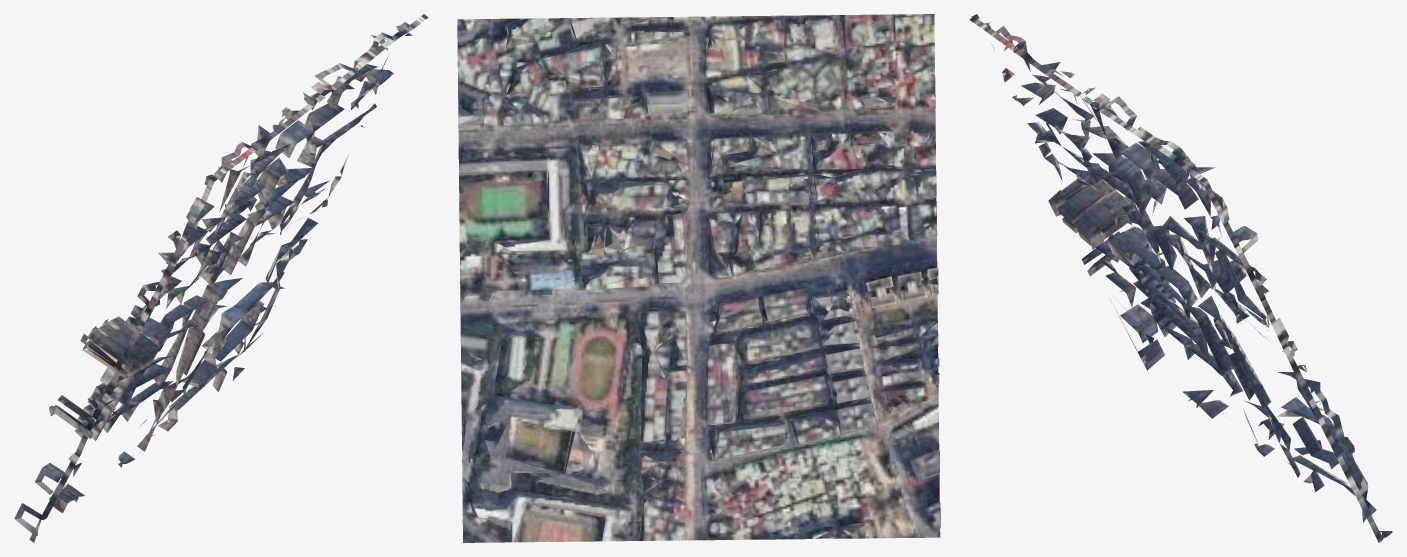
3 views of the same model, side by side, from view 1: azimuth 30°, elevation 25°; view 2: azimuth 150°, elevation 25°; view 3: azimuth 270°, elevation 25° (orthographic). The views are drawn at different scales.
Size of the model in its own units: 622 by 566 by 523.
2 materials, 2 textured.
